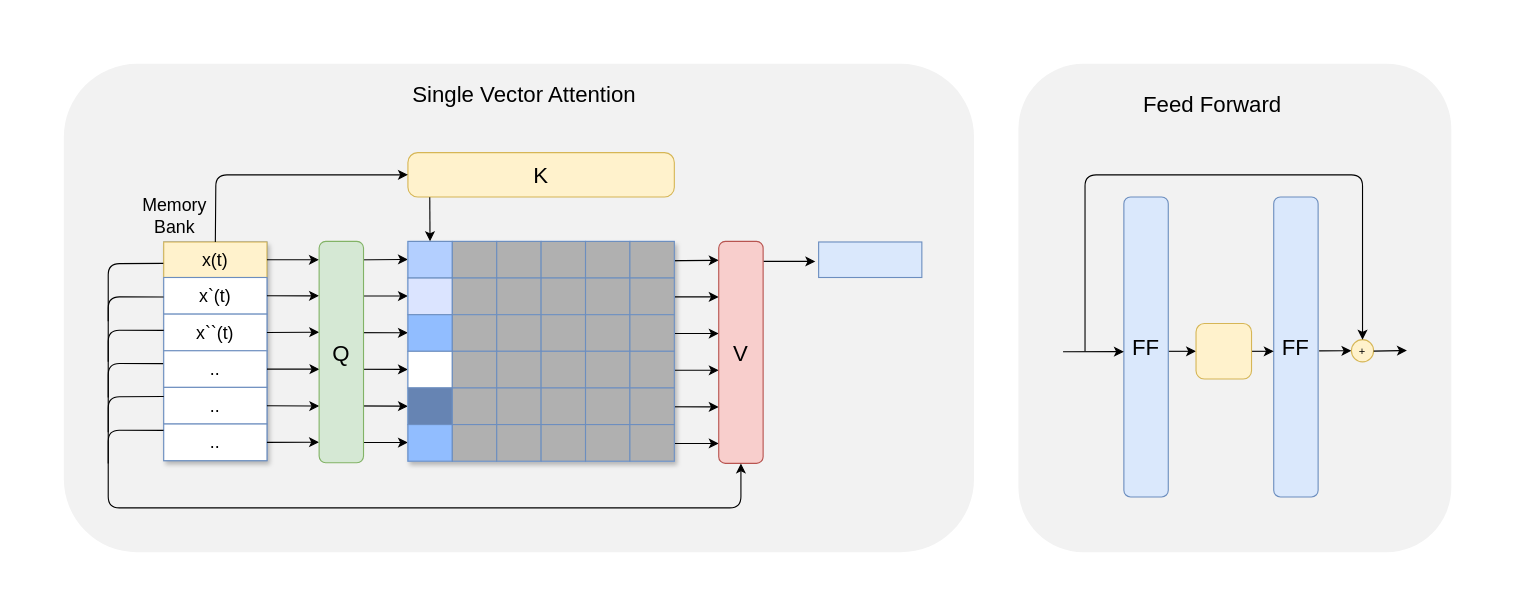
Some shapes in this 1514 by 615 pixel diagram are drawn without their labels. The centre of each missing label's shape, as x and y in pixels:
"SiLU" belongs at [1223,350].
"x(t+1)" belongs at [870,259].
